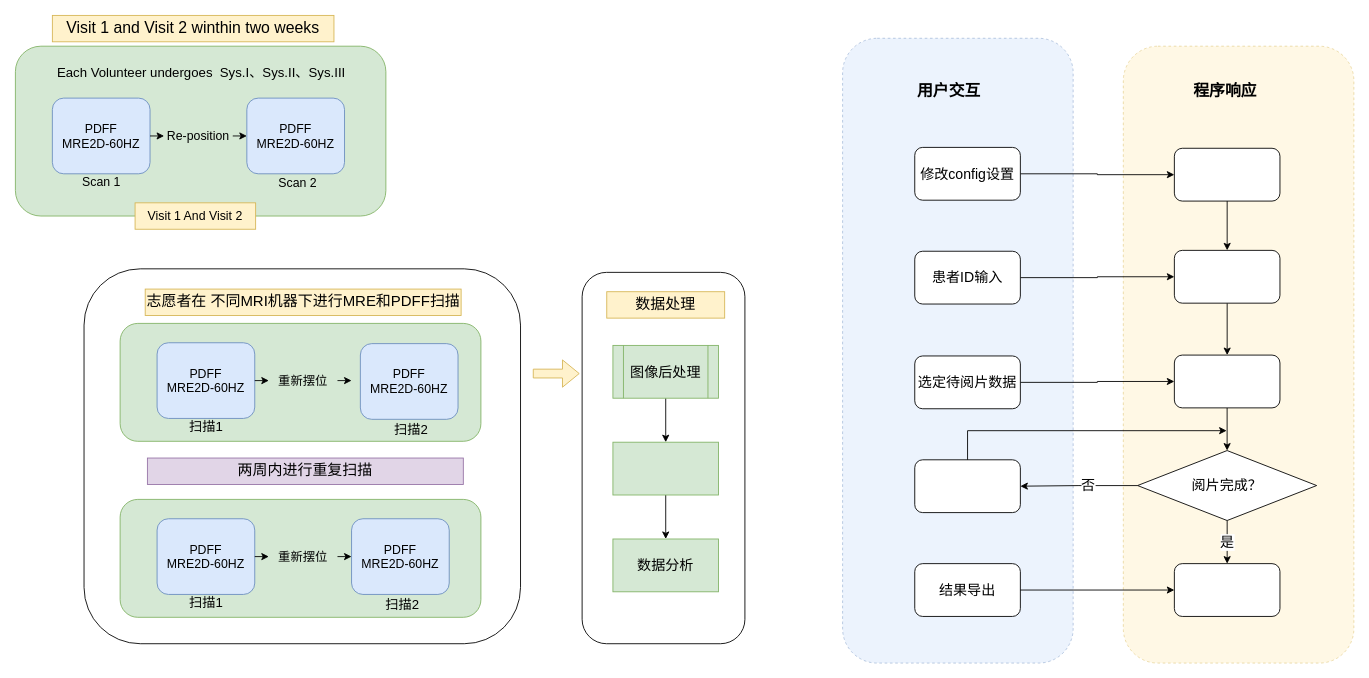
The diagram is 1369 pixels wide and 678 high, and some of its shapes have lost their labels. Here are the shapes that lost their labels. From the top down, the box of each, then its label:
(1173, 147, 1280, 201): 读取config设置
(1173, 249, 1280, 303): 患者数据列表 显示
(1173, 354, 1280, 408): 阅片数据显示
(612, 441, 719, 495): ROI勾画
(914, 459, 1020, 513): 进行MRE、PDFF阅片
(1173, 563, 1280, 616): 阅片结果输出
